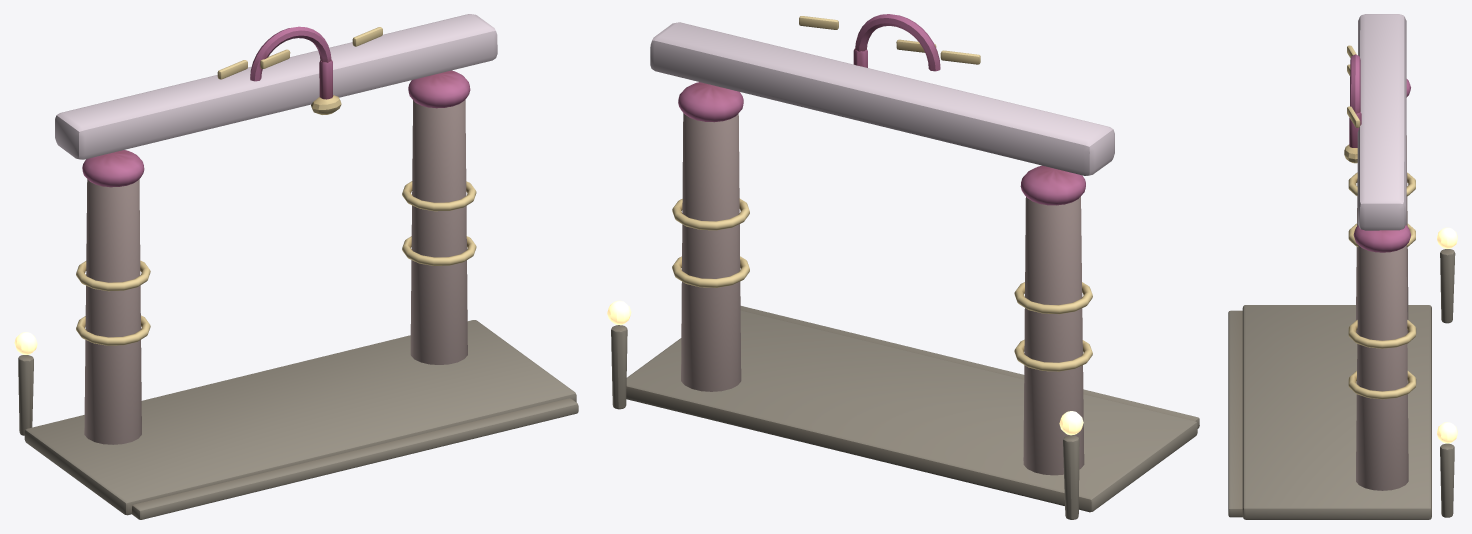
The picture shows the model from 3 angles, left to right: view 1: azimuth 30°, elevation 25°; view 2: azimuth 150°, elevation 25°; view 3: azimuth 270°, elevation 25°; orthographic projection. The views are drawn at different scales.
Visible parts, largest first — view 1: gate_ba699ccf; view 2: gate_ba699ccf; view 3: gate_ba699ccf.
Part boxes in pixels (box(x1,y1,x2,y2)): gate_ba699ccf: box(14, 14, 578, 519); gate_ba699ccf: box(607, 14, 1199, 519); gate_ba699ccf: box(1228, 14, 1457, 519).
Bounding box in the file's own units: 5.37 × 4.46 × 2.55.
